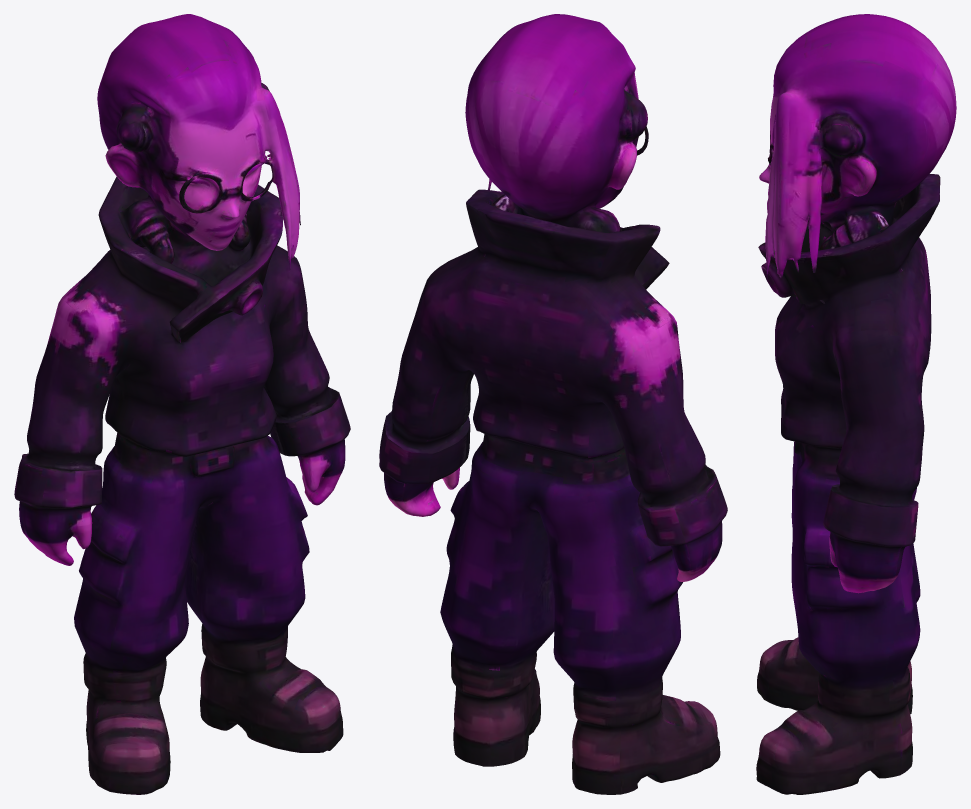
File: maimed_purple_female_ps15_v2.glb
3 views of the same model, side by side, from view 1: azimuth 30°, elevation 25°; view 2: azimuth 150°, elevation 25°; view 3: azimuth 270°, elevation 25° (orthographic). The views are drawn at different scales.
Visible parts, largest first — view 1: Mesh_0; view 2: Mesh_0; view 3: Mesh_0.
Part boxes in pixels (box(x1,y1,x2,y2)): Mesh_0: box(14, 14, 350, 794); Mesh_0: box(379, 14, 727, 794); Mesh_0: box(756, 14, 956, 794).
Size of the model in its own units: 0.9044 by 1.91 by 0.4856.
Materials: 1 (1 with a texture image).
